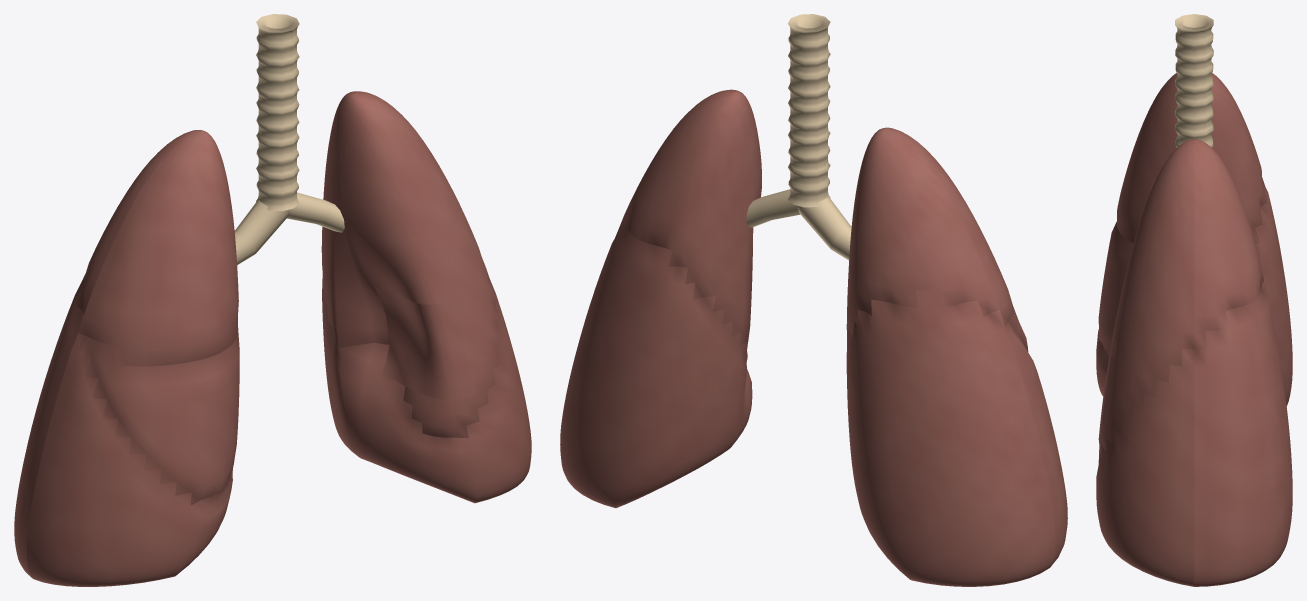
File: lab-lungs-normal.glb
The picture shows the model from 3 angles, left to right: view 1: azimuth 30°, elevation 25°; view 2: azimuth 150°, elevation 25°; view 3: azimuth 270°, elevation 25°; orthographic projection. The views are drawn at different scales.
Visible parts, largest first — view 1: part-left-lung-upper, part-right-lung-lower, part-right-lung-upper, part-left-lung-lower, part-right-lung-middle, part-trachea, part-notch, part-bronchi; view 2: part-right-lung-lower, part-left-lung-lower, part-right-lung-upper, part-left-lung-upper, part-trachea, part-bronchi; view 3: part-left-lung-lower, part-left-lung-upper, part-right-lung-upper, part-trachea, part-right-lung-lower, part-right-lung-middle, part-notch.
Part boxes in pixels (box(x1,y1,x2,y2)): part-left-lung-upper: box(321, 91, 502, 438); part-right-lung-lower: box(14, 274, 233, 586); part-right-lung-upper: box(75, 130, 238, 366); part-left-lung-lower: box(322, 275, 531, 503); part-right-lung-middle: box(79, 328, 239, 505); part-trachea: box(256, 14, 299, 211); part-notch: box(374, 286, 475, 400); part-bronchi: box(234, 192, 344, 264); part-right-lung-lower: box(846, 290, 1067, 586); part-left-lung-lower: box(560, 220, 752, 508); part-right-lung-upper: box(846, 127, 1013, 339); part-left-lung-upper: box(617, 89, 761, 358); part-trachea: box(788, 14, 830, 207); part-bronchi: box(746, 189, 851, 260); part-left-lung-lower: box(1096, 281, 1292, 586); part-left-lung-upper: box(1098, 139, 1263, 462); part-right-lung-upper: box(1117, 73, 1267, 243); part-trachea: box(1175, 14, 1213, 147); part-right-lung-lower: box(1096, 177, 1292, 405); part-right-lung-middle: box(1098, 221, 1133, 352); part-notch: box(1100, 332, 1117, 430).
Bounding box in the file's own units: 22.98 × 22.25 × 8.62.
